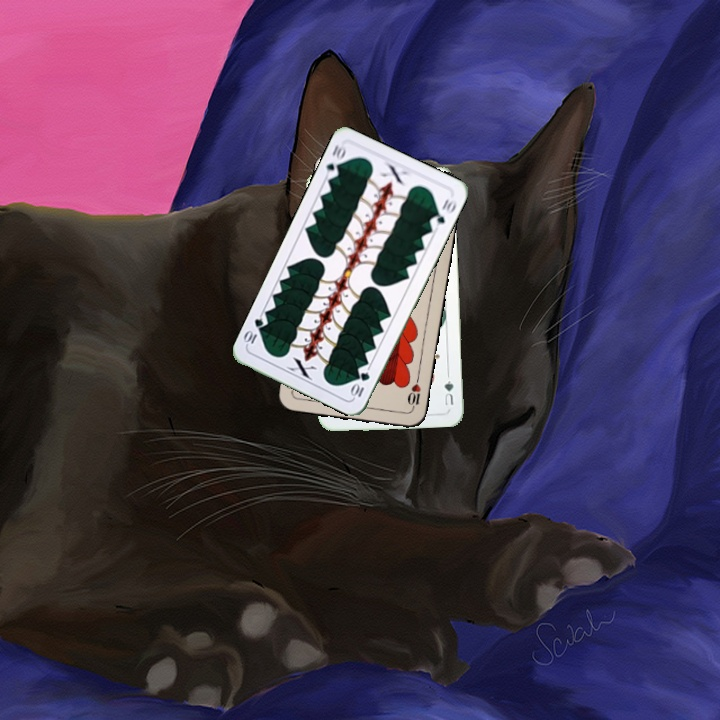G10: (321, 140, 348, 181), (347, 368, 372, 400)
GU: (440, 370, 456, 408)
H10: (403, 373, 423, 413)
